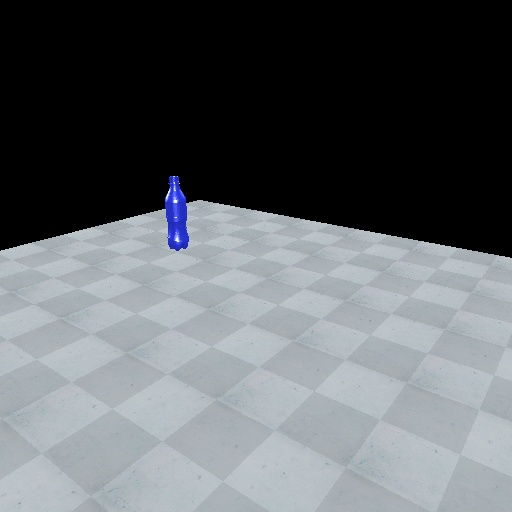bottle: (161, 171, 194, 252)
